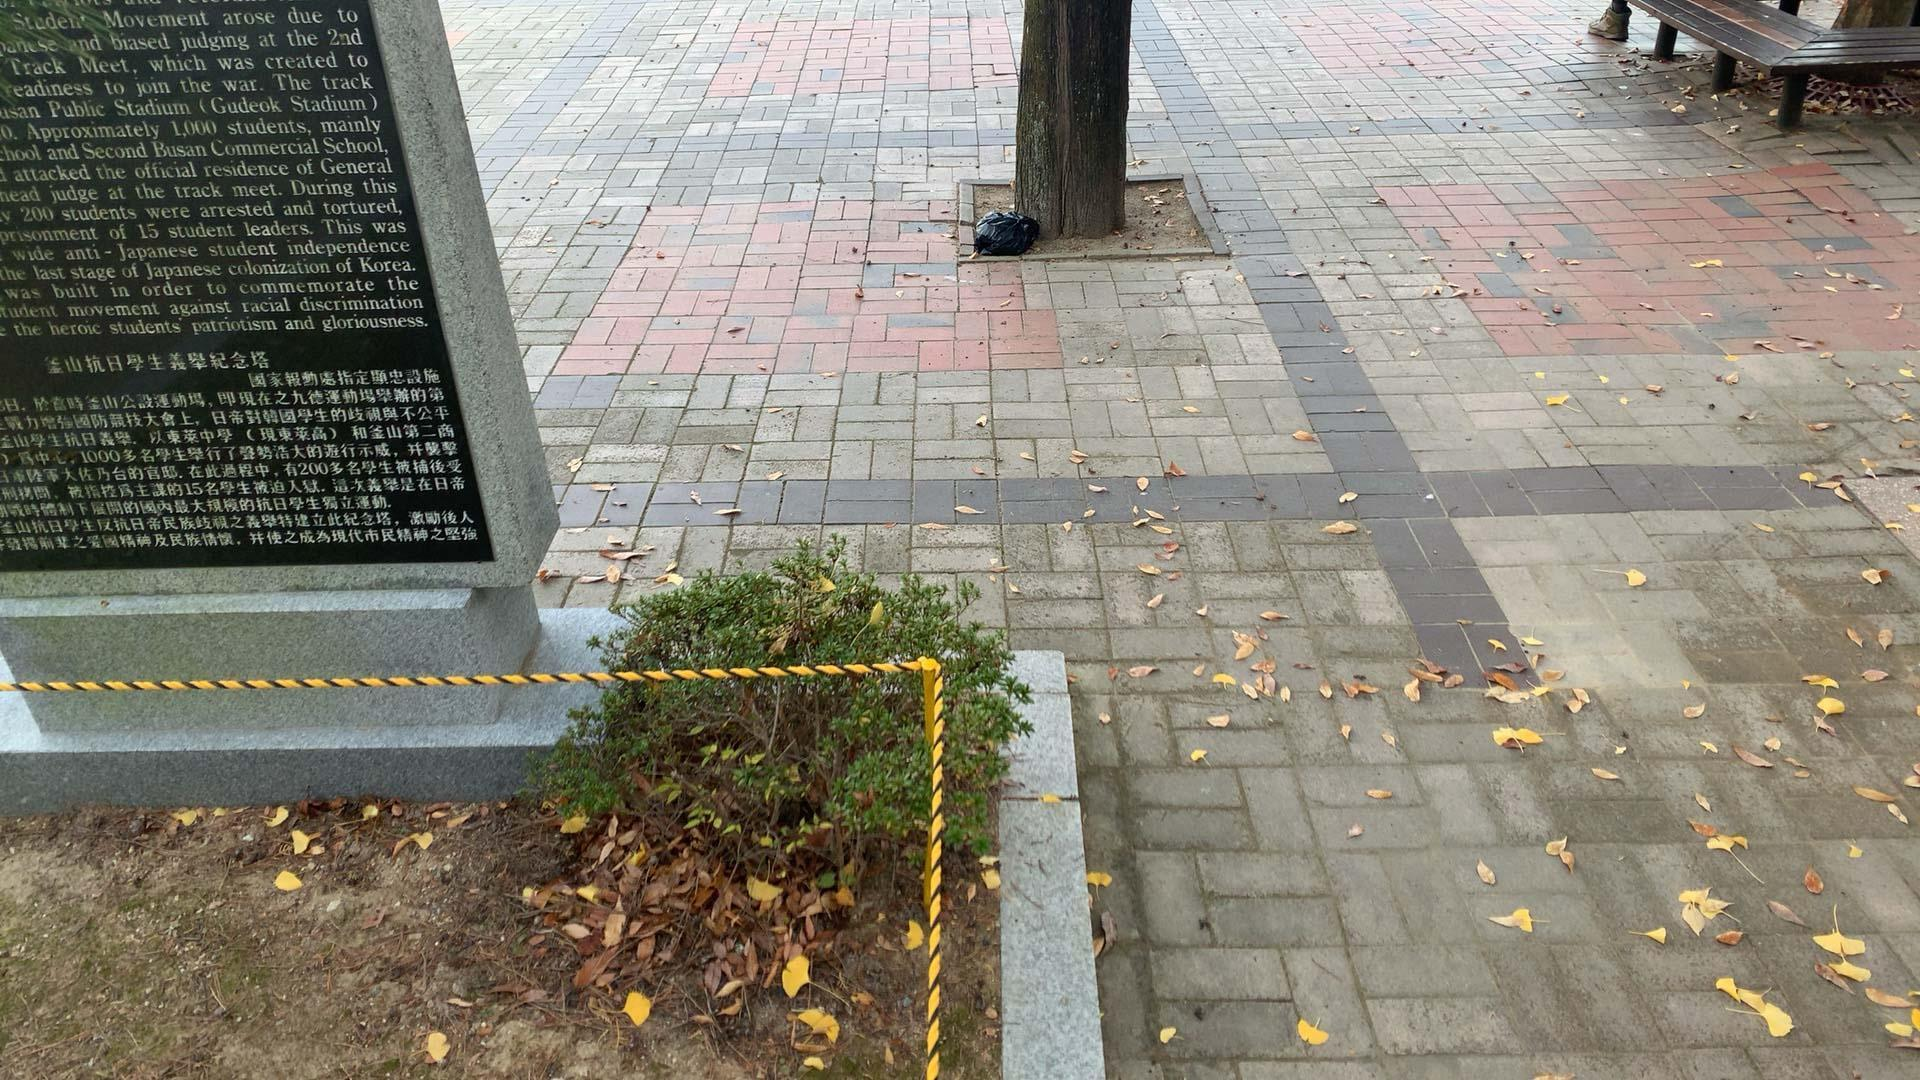black_bag: (969, 207, 1040, 258)
